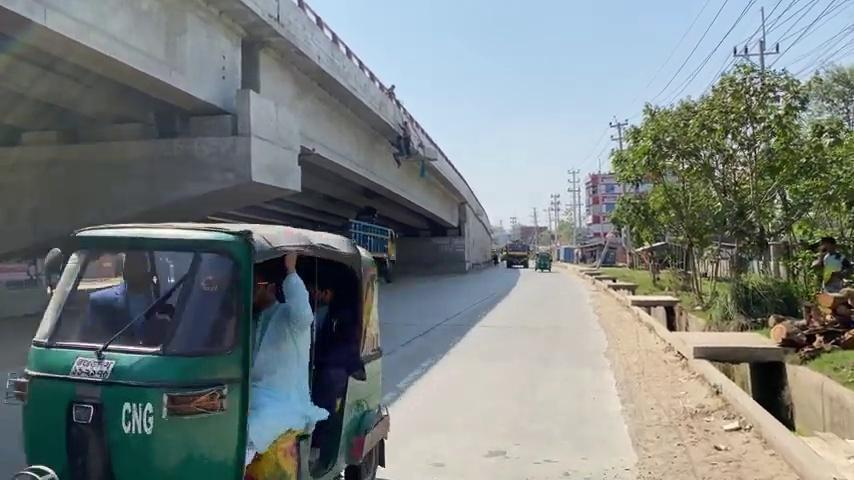Car: (576, 265, 839, 480)
Construction-barrier: (768, 286, 853, 363)
Fallen-tree: (0, 0, 495, 274)
Fence: (243, 250, 330, 479), (810, 235, 853, 293)
Rickshaw: (4, 220, 390, 478)
